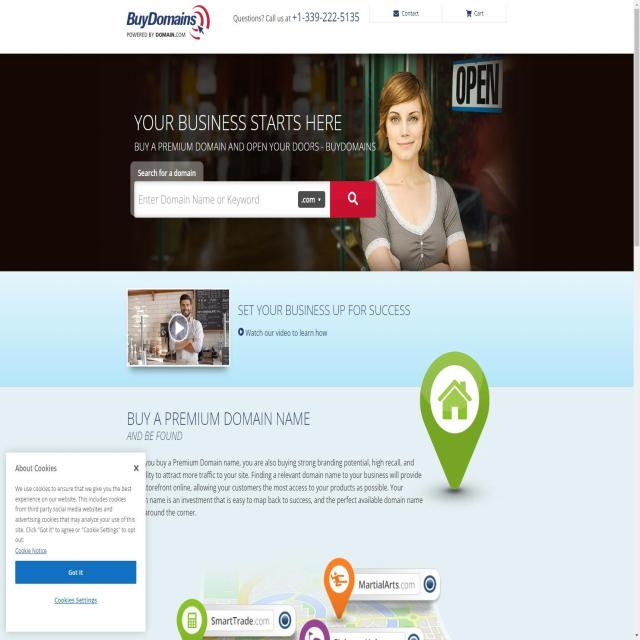button: (15, 561, 137, 585), (330, 181, 376, 217), (370, 4, 440, 22), (443, 4, 507, 22)
input: (134, 182, 294, 216)
select: (298, 189, 326, 209)
